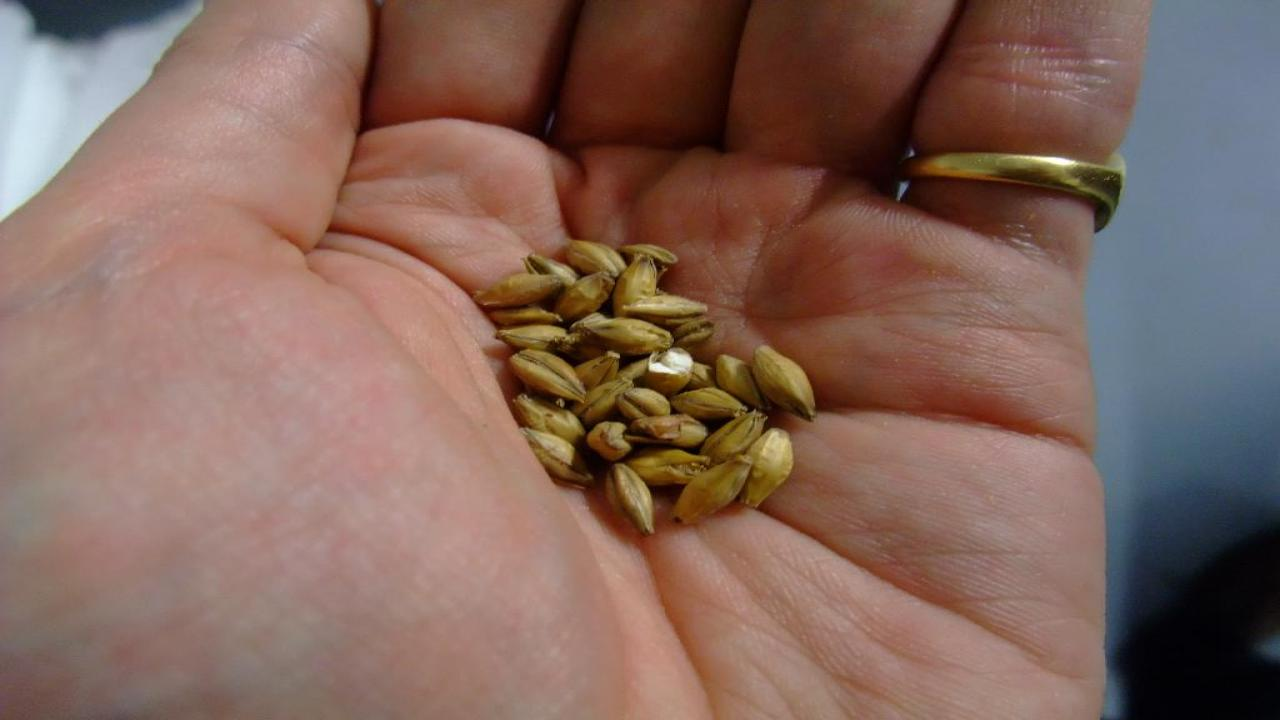ring: (899, 139, 1129, 231)
